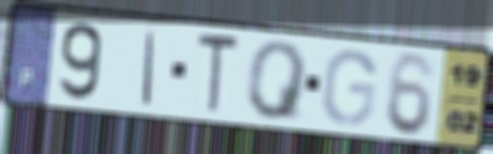6: (382, 48, 439, 139)
9: (57, 21, 104, 101)
G: (318, 47, 380, 128)
I: (139, 28, 159, 108)
Q: (245, 39, 312, 123)
T: (195, 29, 242, 117)
